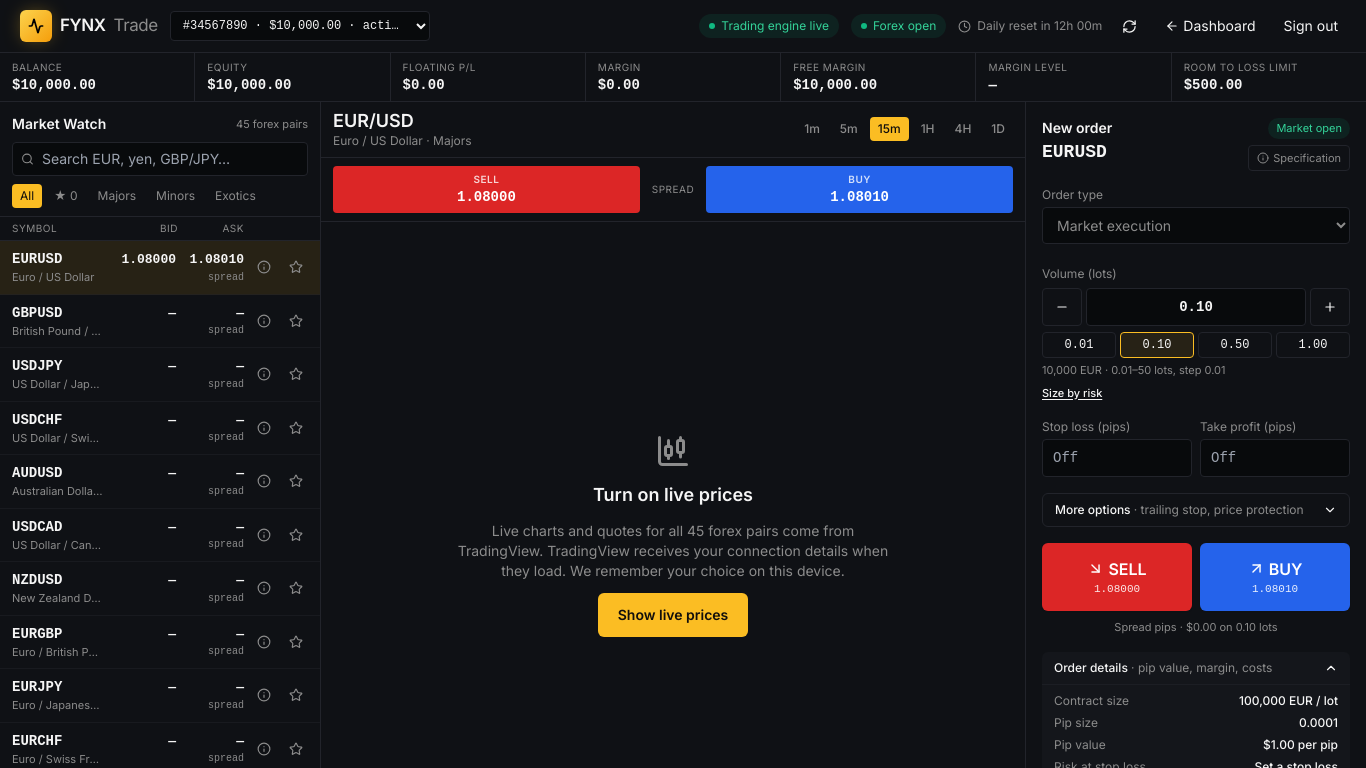
Test: order ticket shows margin, commission and swap › uses the server's conditions and prices when connected
Click the button with test id "buy-button".
click(1275, 577)  # box [1200,542,1350,611]
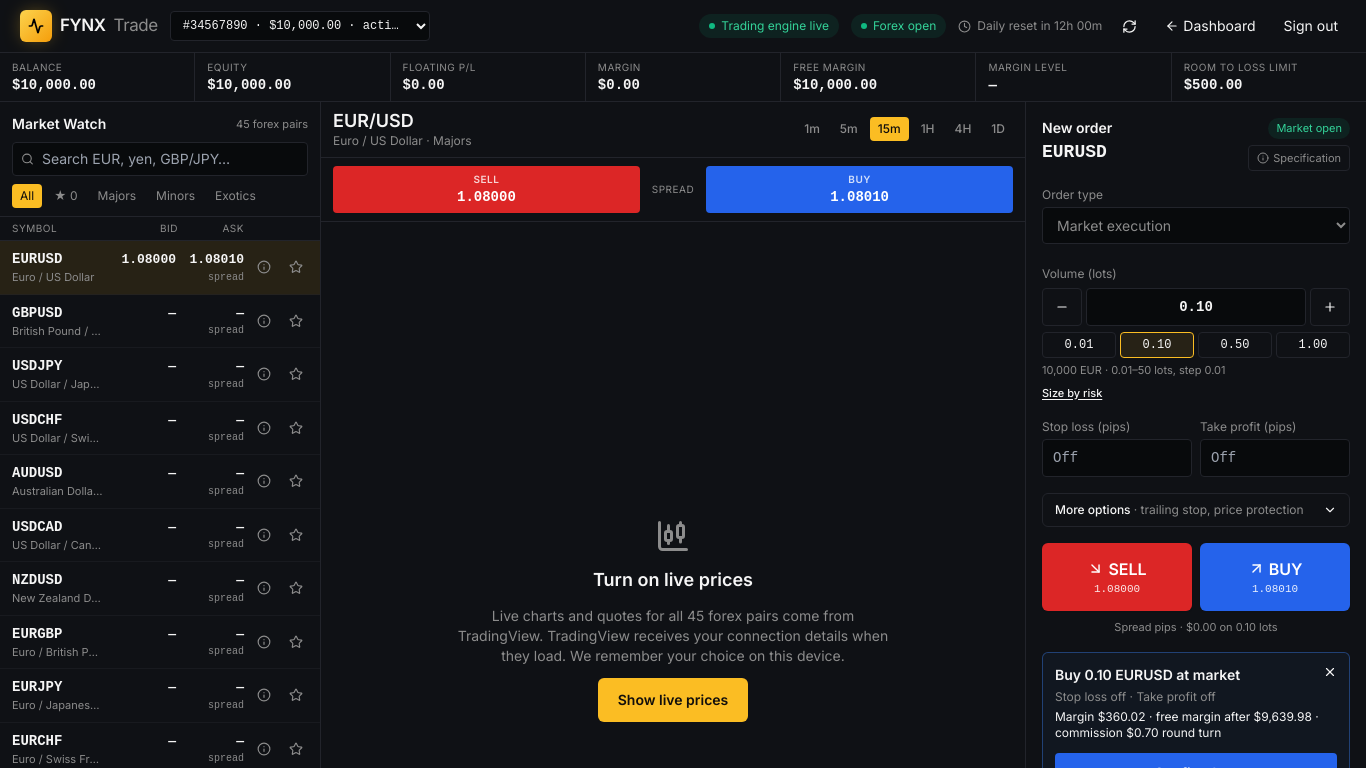
Expected: the text with test id "review-costs" reads "Margin $360.02 · free margin after $9,639.98 · commission $0.70 round turn", [1055,708,1337,740]
